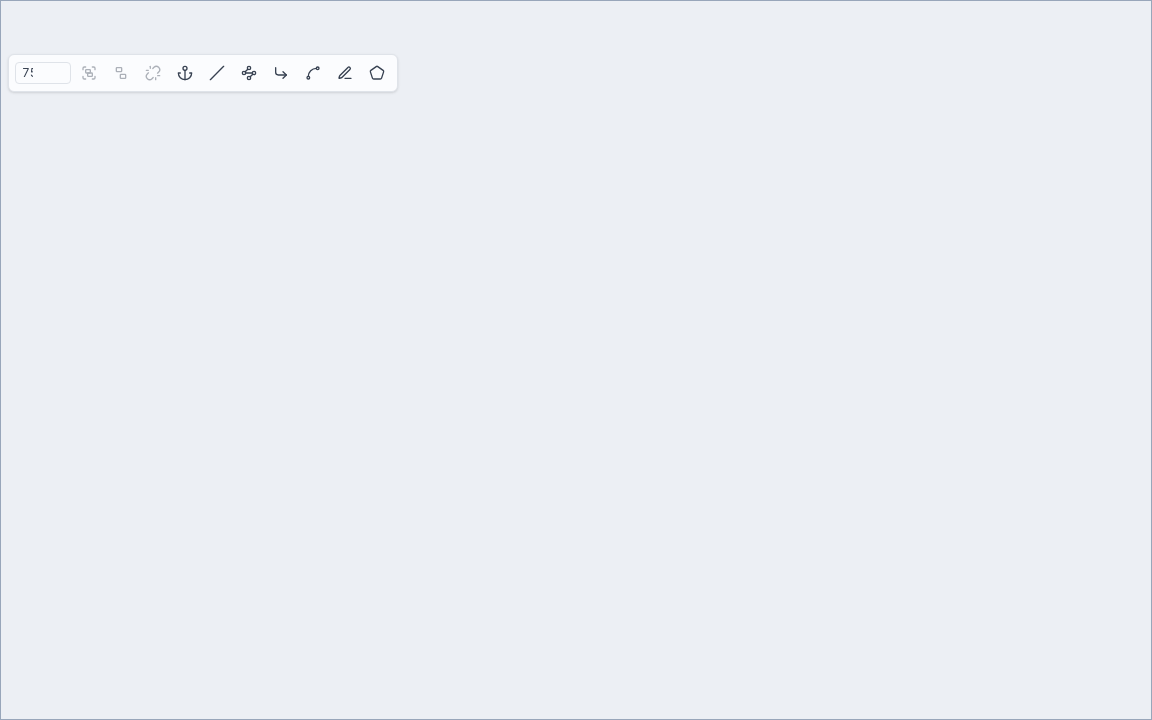
Test: 그은 자유선이 **그려지고 잡힌다** › 저장된 중간점 위에서 **그 선이 잡힌다** — 그린 자리와 잡히는 자리가 같다
Click the button with test id "canvas-connector-tool-free". click: (345,73)
box: [331,59,359,87]
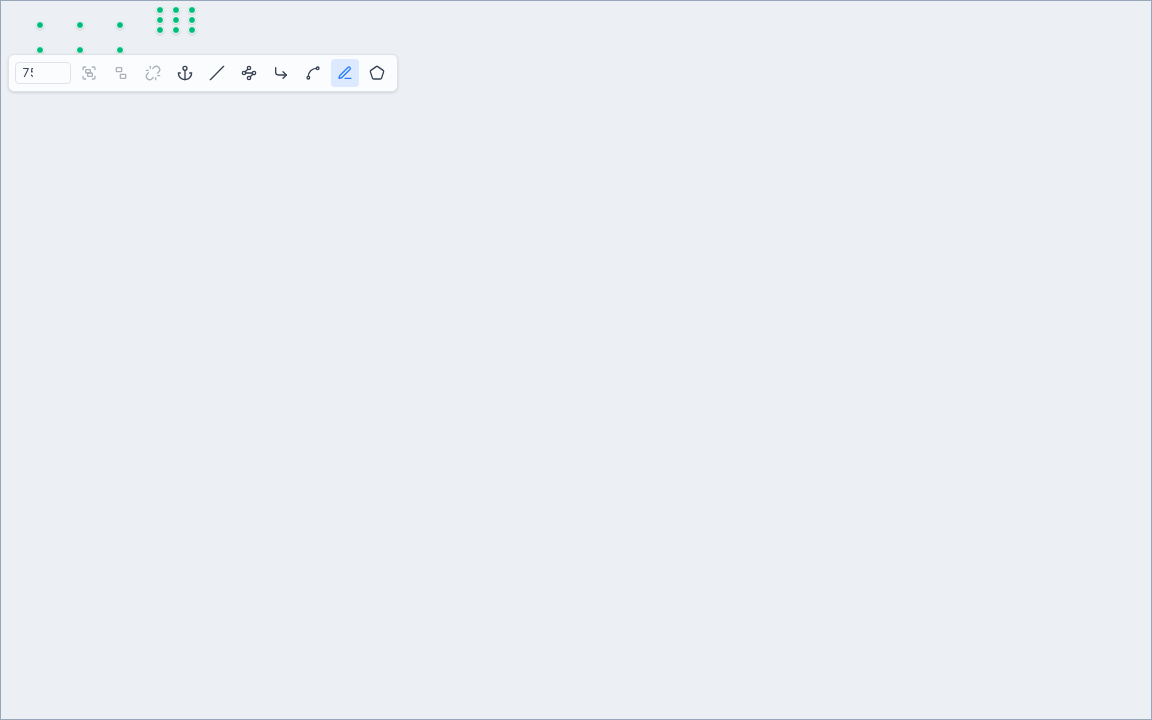
Now the button with test id "canvas-connector-tool-free" is pressed, box [331,59,359,87]
Press the mouse on the element with test id "canvas-edit-overlay" at (576,360), box [0,0,1151,719]
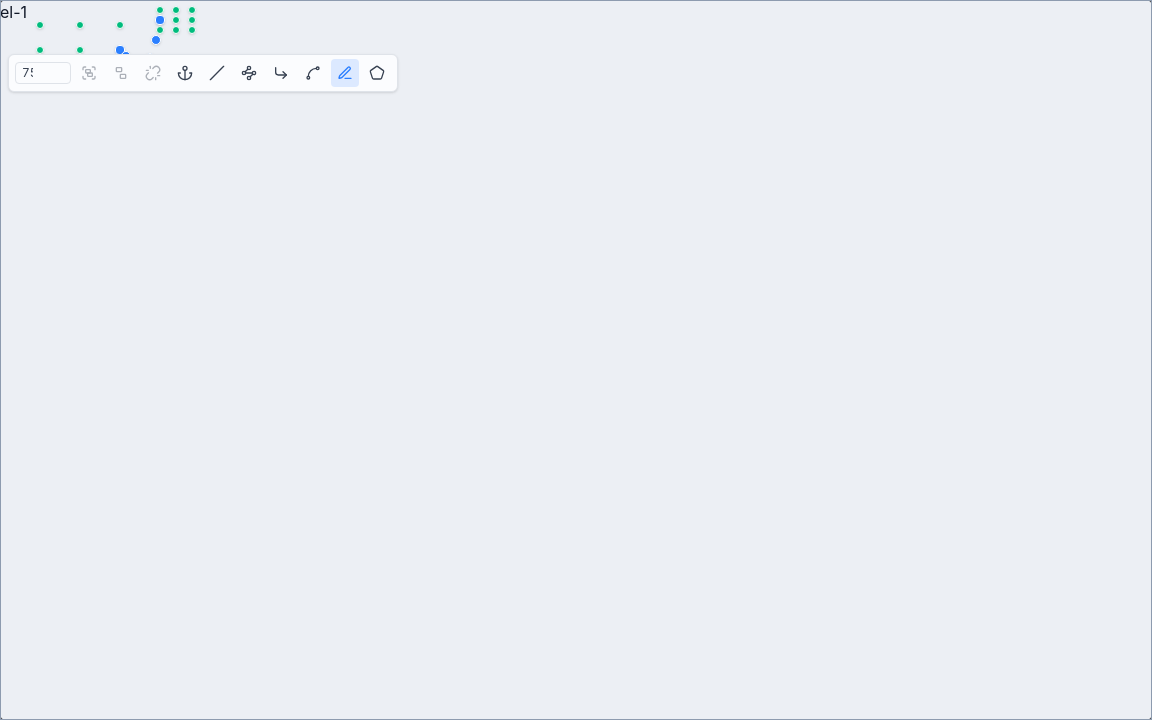
Now the text "el-1" is shown, box [0,2,27,22]
